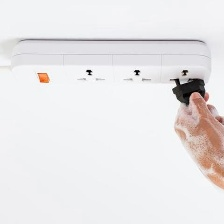three_eye_plug: (5, 36, 216, 91)
